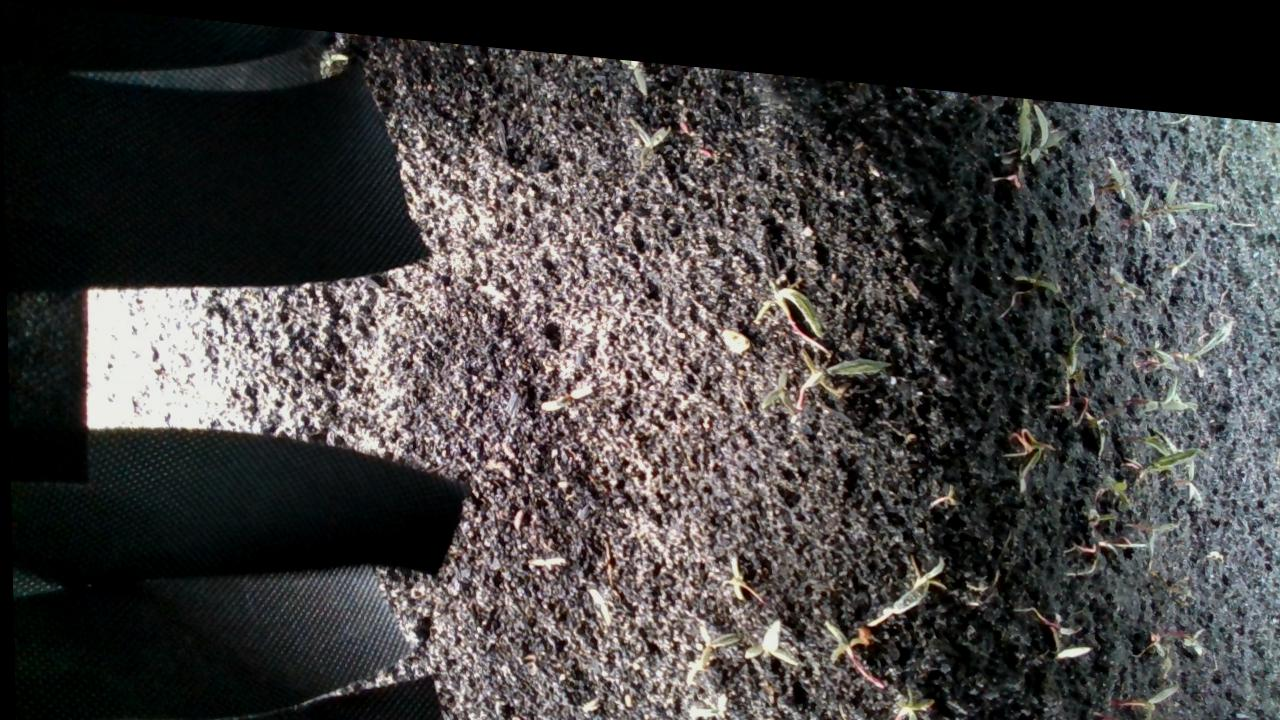weed: (1172, 690, 1242, 719)
